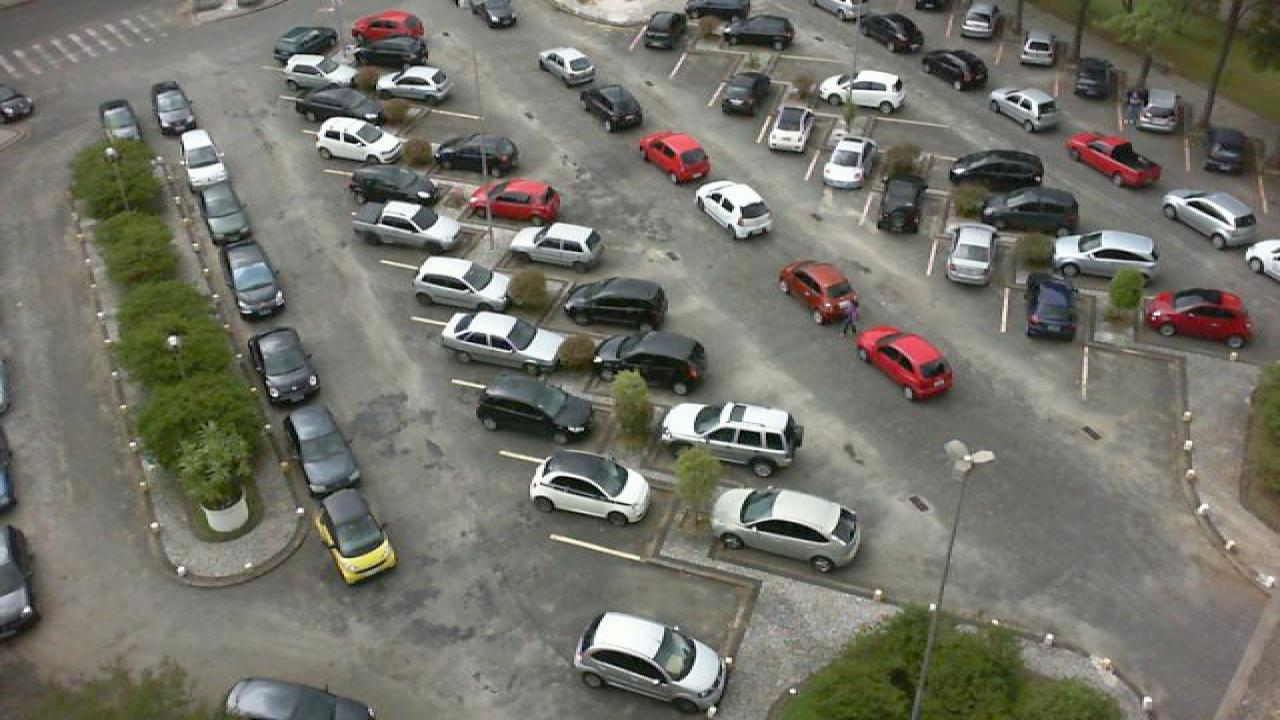Car: (574, 610, 728, 714), (710, 483, 864, 572), (658, 398, 808, 477), (528, 449, 652, 526), (476, 374, 592, 446), (316, 486, 398, 585), (438, 310, 564, 372), (856, 325, 956, 402), (592, 330, 710, 394), (1140, 286, 1254, 348), (286, 403, 362, 495), (222, 677, 374, 720), (350, 198, 464, 251), (564, 276, 672, 330), (1052, 228, 1162, 280), (1160, 188, 1258, 245), (412, 254, 514, 308), (250, 325, 320, 402), (1066, 132, 1160, 188), (692, 178, 774, 240), (778, 259, 856, 324), (980, 186, 1082, 234), (224, 241, 288, 316), (508, 219, 602, 270), (948, 148, 1048, 194), (468, 178, 564, 225), (314, 116, 408, 164), (1020, 269, 1080, 342), (818, 68, 908, 114), (346, 162, 440, 206), (638, 130, 714, 184), (434, 132, 520, 176), (944, 222, 998, 286), (292, 84, 378, 124), (816, 136, 874, 195), (988, 86, 1062, 132), (876, 173, 930, 236), (580, 82, 646, 133), (198, 180, 250, 243), (280, 53, 360, 91), (376, 64, 454, 102), (922, 48, 988, 92), (718, 13, 796, 50), (178, 128, 226, 186), (1204, 125, 1256, 175), (538, 46, 598, 89), (352, 37, 430, 70), (720, 70, 774, 116), (272, 25, 340, 61), (150, 81, 196, 134), (768, 102, 814, 154), (1072, 71, 1122, 118), (348, 9, 426, 39), (1136, 89, 1184, 134), (98, 99, 144, 145), (874, 30, 920, 74), (642, 9, 690, 51), (1018, 29, 1060, 71), (958, 0, 998, 39), (684, 0, 752, 21), (472, 0, 518, 28)
